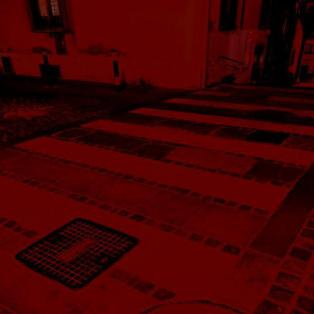Paso de Cebra: (6, 116, 314, 218)
